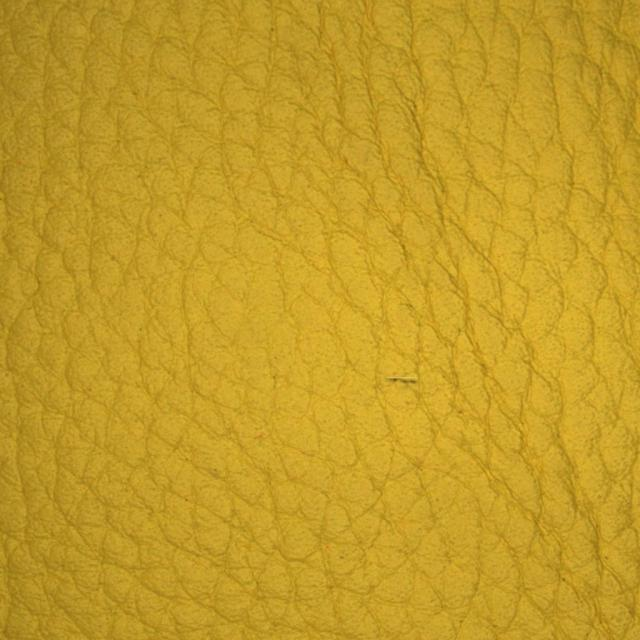Scratch: (302, 312, 496, 438)
